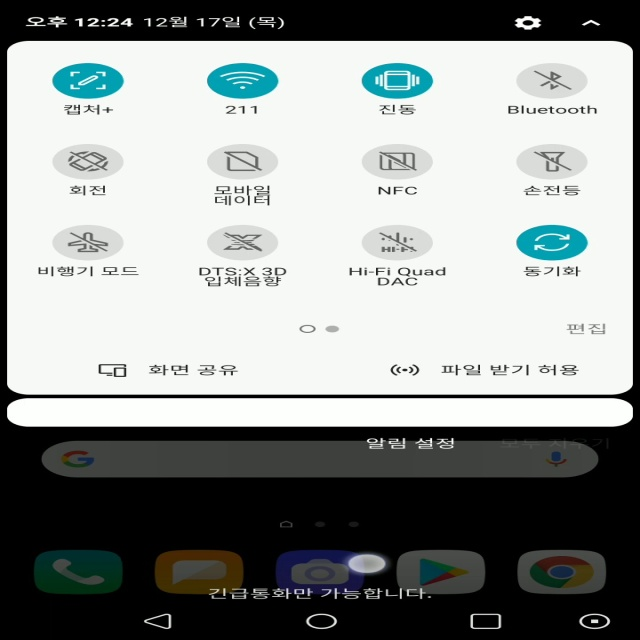Cursor: (347, 553, 392, 576)
